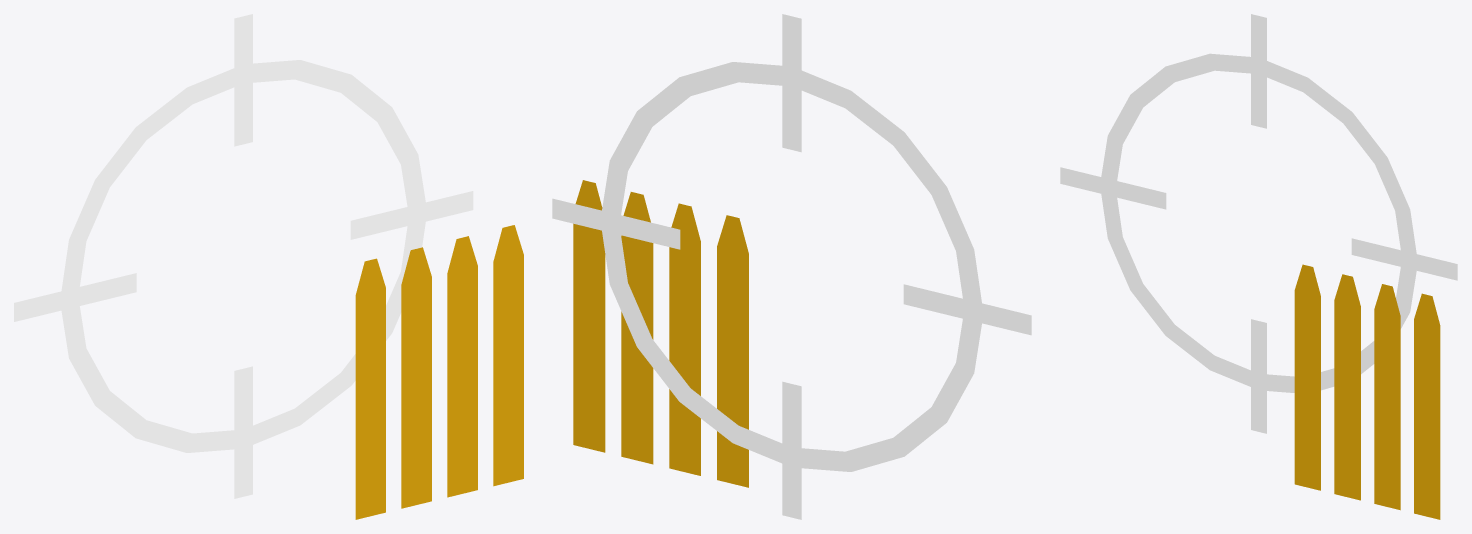
3 renders of one model, left to right at view 1: azimuth 30°, elevation 25°; view 2: azimuth 150°, elevation 25°; view 3: azimuth 330°, elevation 25°, orthographic. The views are drawn at different scales.
Parts seen in each view (by area): view 1: bullets, cursor; view 2: cursor, bullets; view 3: bullets, cursor.
Part boxes in pixels (x1,y1,x2,y2): bullets: (355,225,523,519); cursor: (14,14,473,498); cursor: (552,14,1031,519); bullets: (573,180,748,487); bullets: (1294,264,1440,519); cursor: (1060,14,1457,433).
Bounding box in the file's own units: 0.775 × 0.775 × 0.1.
